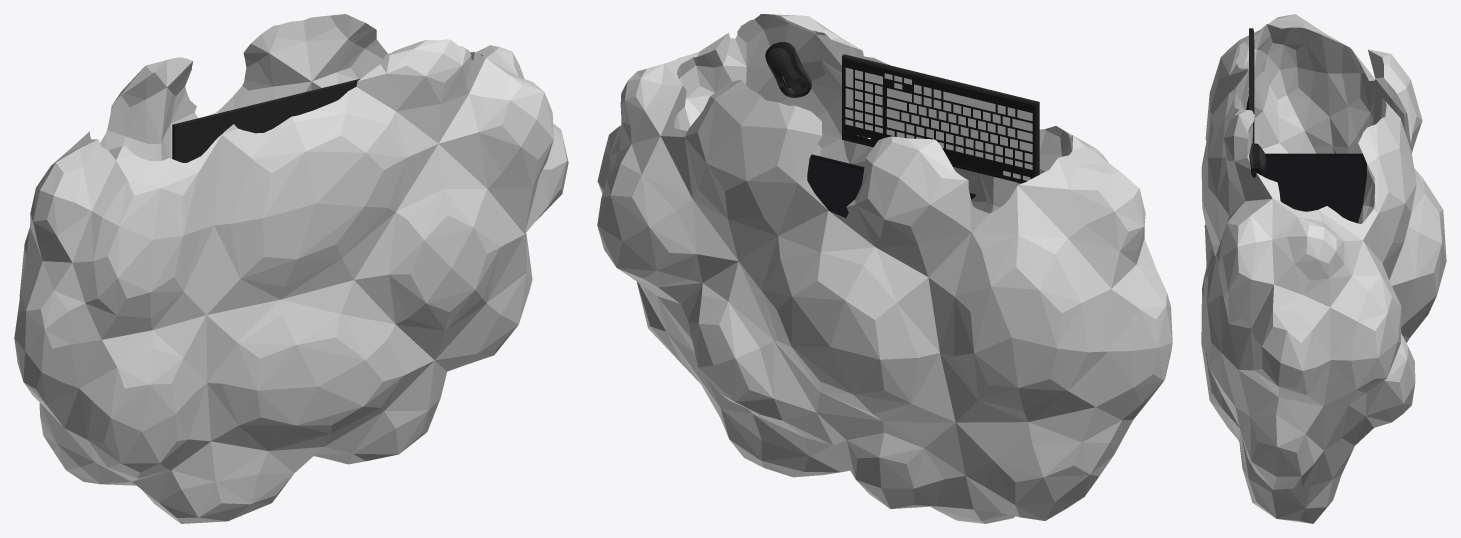
File: NuageMain.glb
The picture shows the model from 3 angles, left to right: view 1: azimuth 30°, elevation 25°; view 2: azimuth 150°, elevation 25°; view 3: azimuth 270°, elevation 25°; orthographic projection. The views are drawn at different scales.
Parts seen in each view (by area): view 1: Boolean, Plane.027; view 2: Boolean, Plane.027, tv_tv_0.001; view 3: Boolean, tv_tv_0.001, Plane.027.
Part boxes in pixels (box(x1,y1,x2,y2)): Boolean: box(14, 14, 568, 523); Plane.027: box(172, 78, 360, 162); Boolean: box(597, 14, 1172, 523); Plane.027: box(765, 42, 1039, 183); tv_tv_0.001: box(807, 154, 975, 217); Boolean: box(1201, 14, 1446, 523); tv_tv_0.001: box(1264, 153, 1366, 223); Plane.027: box(1246, 28, 1266, 177).
Bounding box in the file's own units: 22.35 × 17.11 × 8.99.
11 materials, 1 textured.
